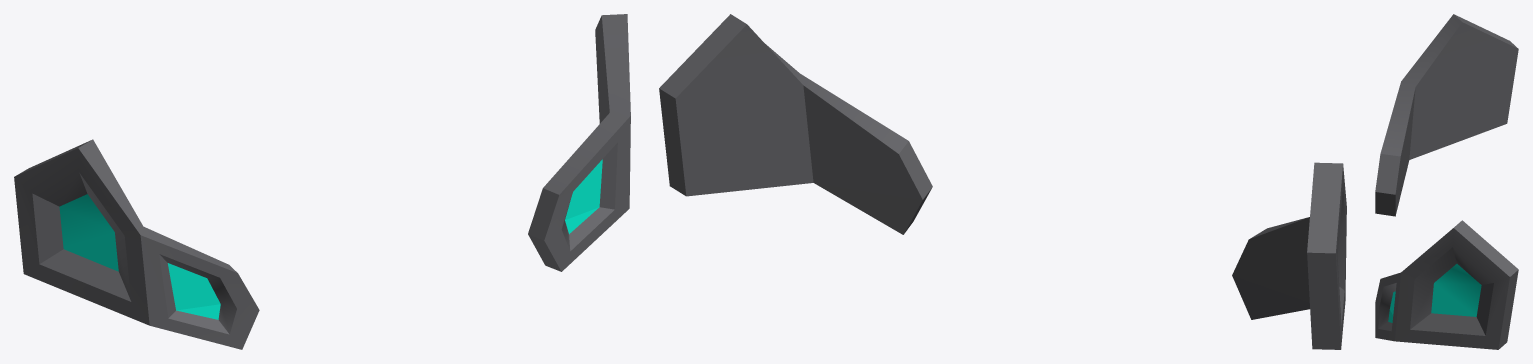
File: SM_Chr_Attach_Cybernetics_Female_02.fbx
The picture shows the model from 3 angles, left to right: view 1: azimuth 30°, elevation 25°; view 2: azimuth 150°, elevation 25°; view 3: azimuth 270°, elevation 25°; orthographic projection. The views are drawn at different scales.
Parts seen in each view (by area): view 1: SM_Chr_Attach_Cybernetics_Female_02; view 2: SM_Chr_Attach_Cybernetics_Female_02; view 3: SM_Chr_Attach_Cybernetics_Female_02.
Boxes of the visible parts, x1,y1,x2,y2 form: SM_Chr_Attach_Cybernetics_Female_02: (14,14,630,349); SM_Chr_Attach_Cybernetics_Female_02: (659,14,1346,349); SM_Chr_Attach_Cybernetics_Female_02: (1375,14,1518,349).
Bounding box in the file's own units: 21.93 × 6.77 × 5.63.
